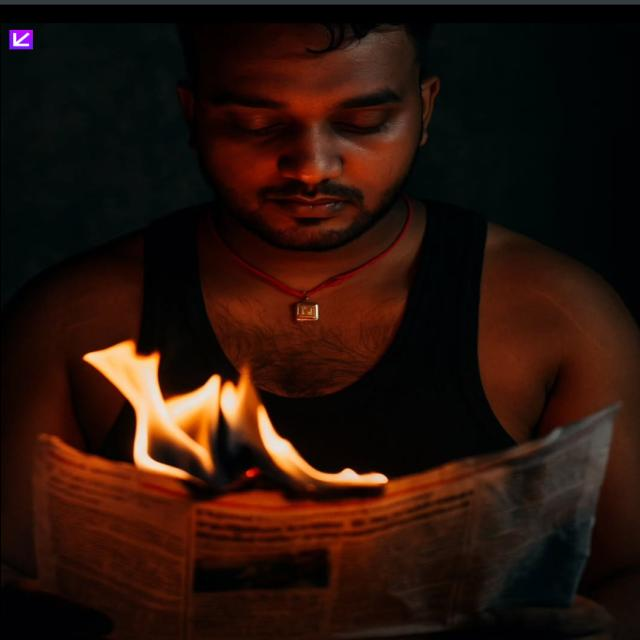fire: (222, 368, 388, 487), (82, 339, 220, 481)
